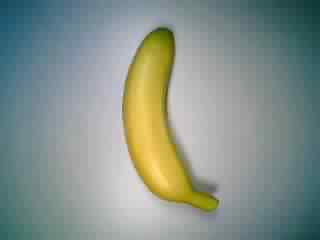banana: (117, 24, 233, 219)
